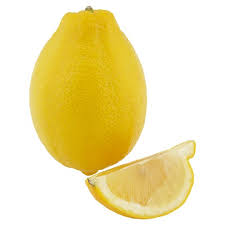Lemon: (23, 3, 154, 181)
